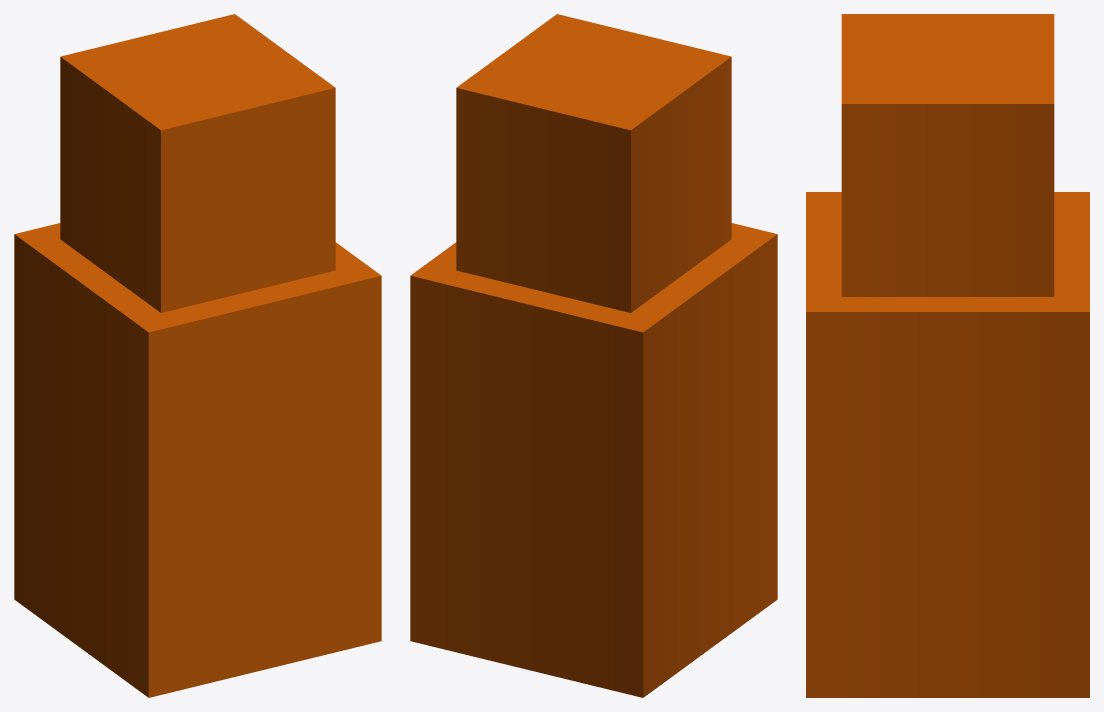
Rendered from googelon-body.glb.
The picture shows the model from 3 angles, left to right: view 1: azimuth 30°, elevation 25°; view 2: azimuth 150°, elevation 25°; view 3: azimuth 270°, elevation 25°; orthographic projection. The views are drawn at different scales.
Parts seen in each view (by area): view 1: mesh0; view 2: mesh0; view 3: mesh0.
Boxes of the visible parts, box(x1,y1,x2,y2) form: mesh0: box(14, 14, 381, 697); mesh0: box(410, 14, 777, 697); mesh0: box(806, 14, 1089, 697).
Size of the model in its own units: 0.4 by 0.9 by 0.4.
